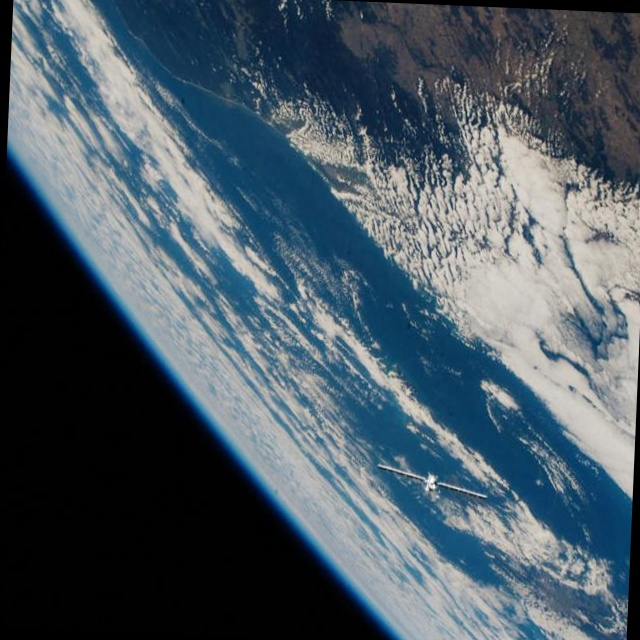satellite: (368, 446, 504, 527)
